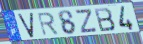4: (119, 5, 136, 32)
8: (57, 10, 78, 36)
B: (93, 7, 117, 33)
R: (36, 12, 60, 37)
V: (17, 12, 35, 39)
Z: (75, 8, 99, 34)
